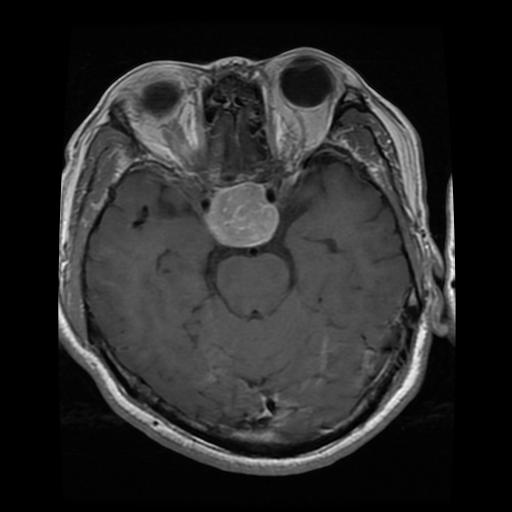Pituirity_tumour: (204, 181, 278, 247)
